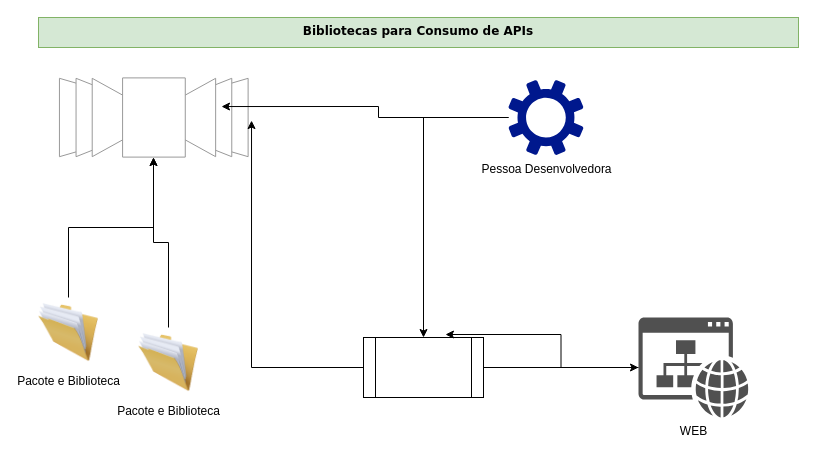
This 816x456 diagram has some shape labels left out. Each missing label, with the centre of its shape:
"API" goes at [423,367].
"Escolha de Bibliotecas" goes at [153,117].
